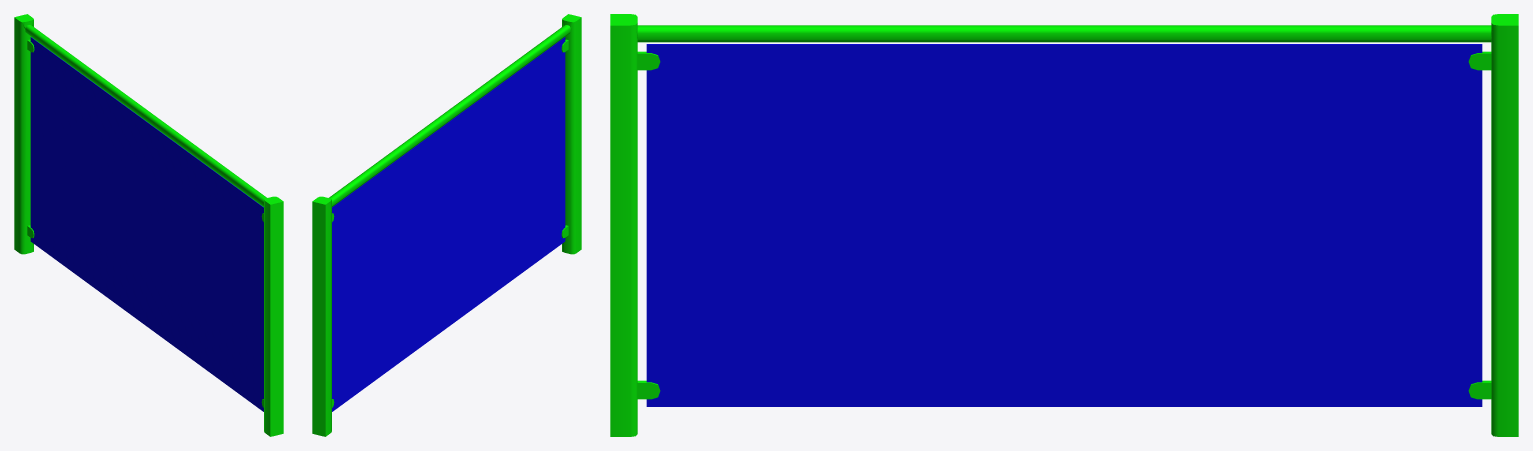
File: Panel_Glass.fbx
3 views of the same model, side by side, from view 1: azimuth 30°, elevation 25°; view 2: azimuth 150°, elevation 25°; view 3: azimuth 270°, elevation 25° (orthographic). The views are drawn at different scales.
Parts seen in each view (by area): view 1: Panel_Glass; view 2: Panel_Glass; view 3: Panel_Glass.
Boxes of the visible parts, <box> form: Panel_Glass: <box>14,14,283,436</box>; Panel_Glass: <box>312,14,581,436</box>; Panel_Glass: <box>610,14,1518,436</box>.
Bounding box in the file's own units: 0.15 × 2.5 × 5.
